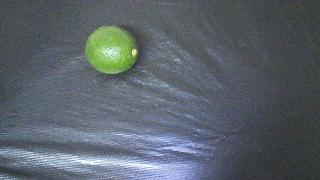LOCAL: (85, 26, 139, 74)
